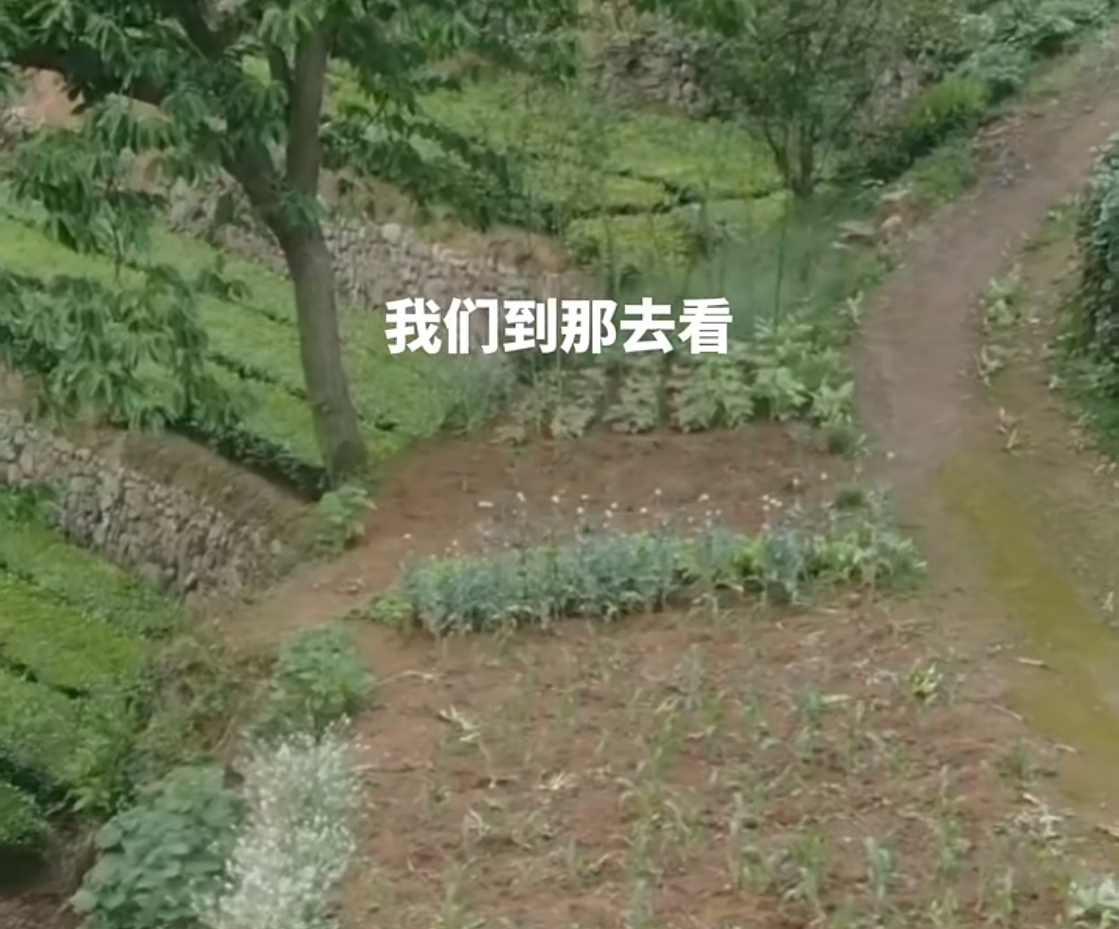Poppy: (384, 484, 896, 629)
